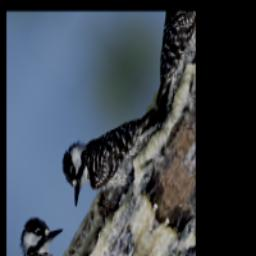Woodpecker: (49, 61, 179, 256)
